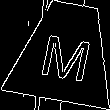M_N: (35, 23, 95, 81)
